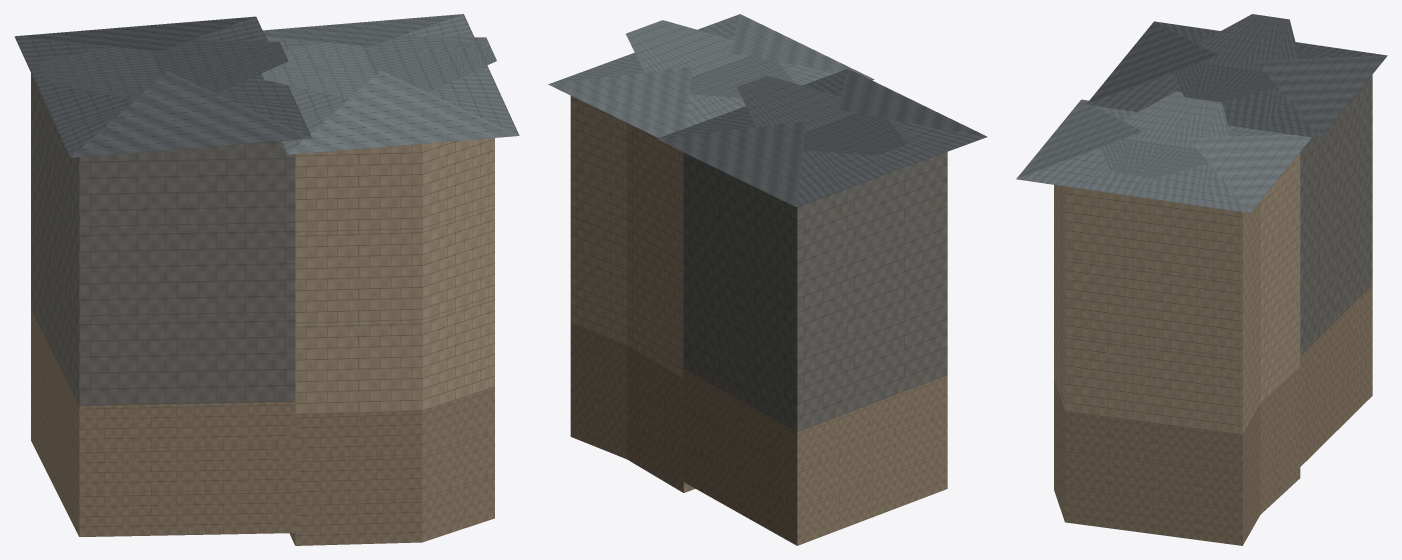
The model's file is bld_c33_-40_450.gltf.
3 renders of one model, left to right at view 1: azimuth 30°, elevation 25°; view 2: azimuth 150°, elevation 25°; view 3: azimuth 270°, elevation 25°, orthographic. The views are drawn at different scales.
Parts seen in each view (by area): view 1: bld_c33_-40_450; view 2: bld_c33_-40_450; view 3: bld_c33_-40_450.
Part boxes in pixels (left/top/right/bottom): bld_c33_-40_450: left=14, top=14, right=519, bottom=545; bld_c33_-40_450: left=548, top=14, right=987, bottom=545; bld_c33_-40_450: left=1016, top=14, right=1387, bottom=545.
Bounding box in the file's own units: 18.3 × 17 × 15.5.
Materials: 5 (5 with a texture image).
